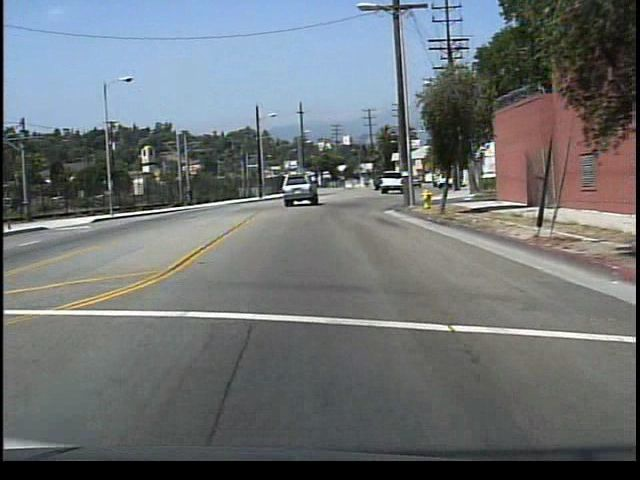person: (183, 183, 199, 208)
